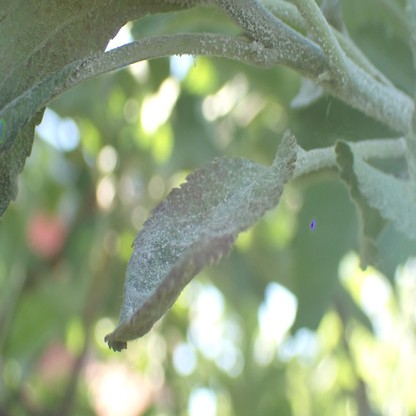powder: (1, 2, 206, 217), (103, 127, 297, 351), (337, 142, 416, 271)
